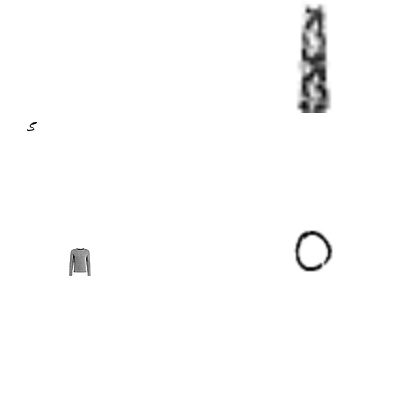0: (284, 221, 340, 277)
5: (25, 119, 39, 133)
Dress: (258, 1, 370, 113)
Pullover: (66, 248, 94, 276)
